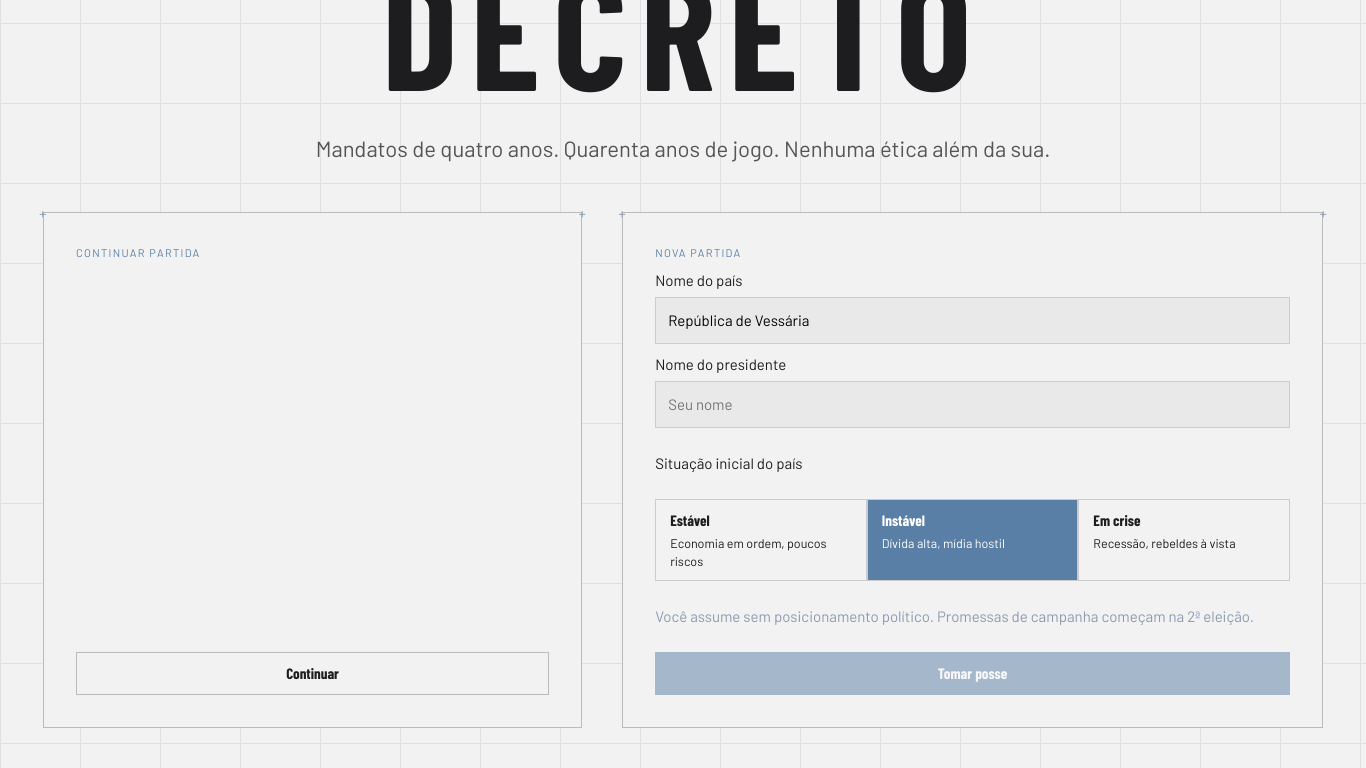
App with API › shows only the four requested economic indicators
(page scrolled)
Click the button "Continuar": (313, 674) [76, 652, 549, 695]
(page scrolled)
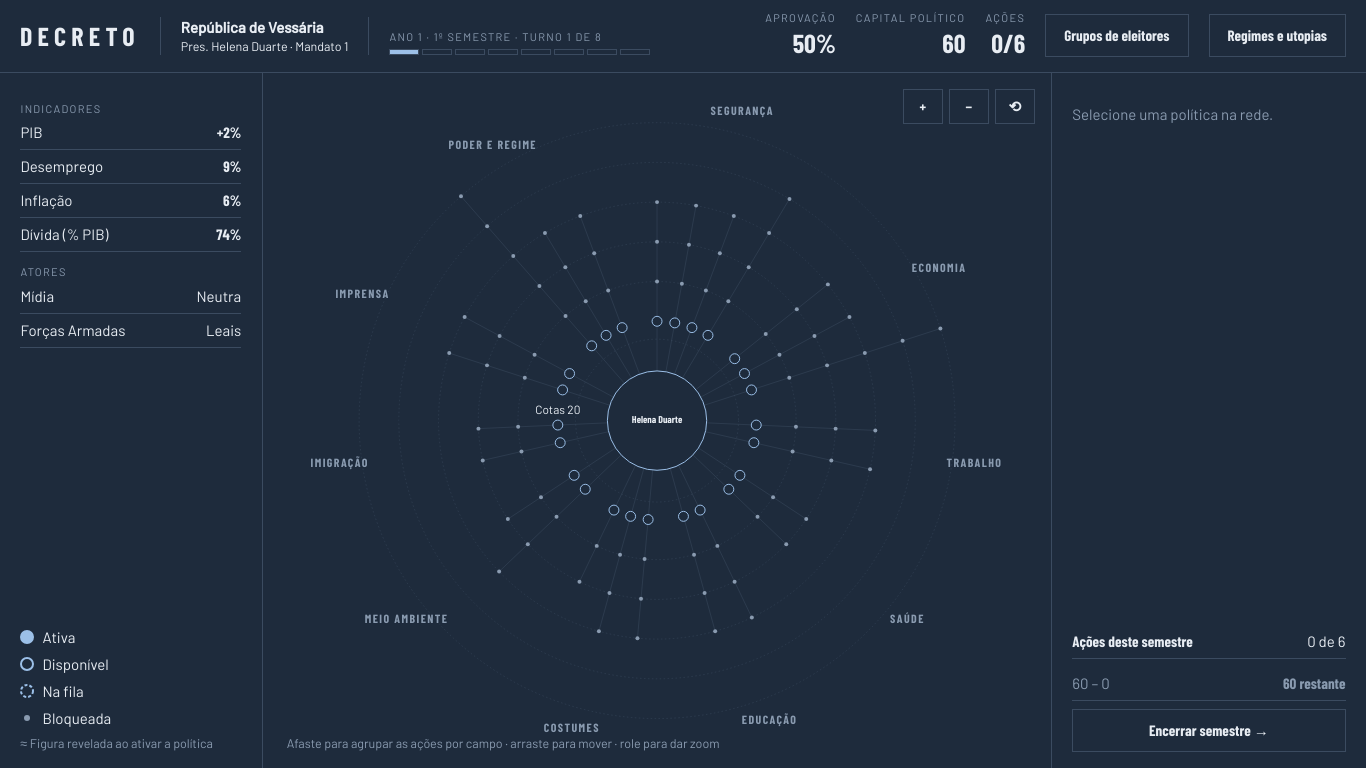
Now the text "Ações deste semestre" is shown, box [1072, 631, 1193, 652]
Now the text "PIB" is shown, box [20, 122, 43, 143]
Now the text "Desemprego" is shown, box [20, 156, 103, 177]
